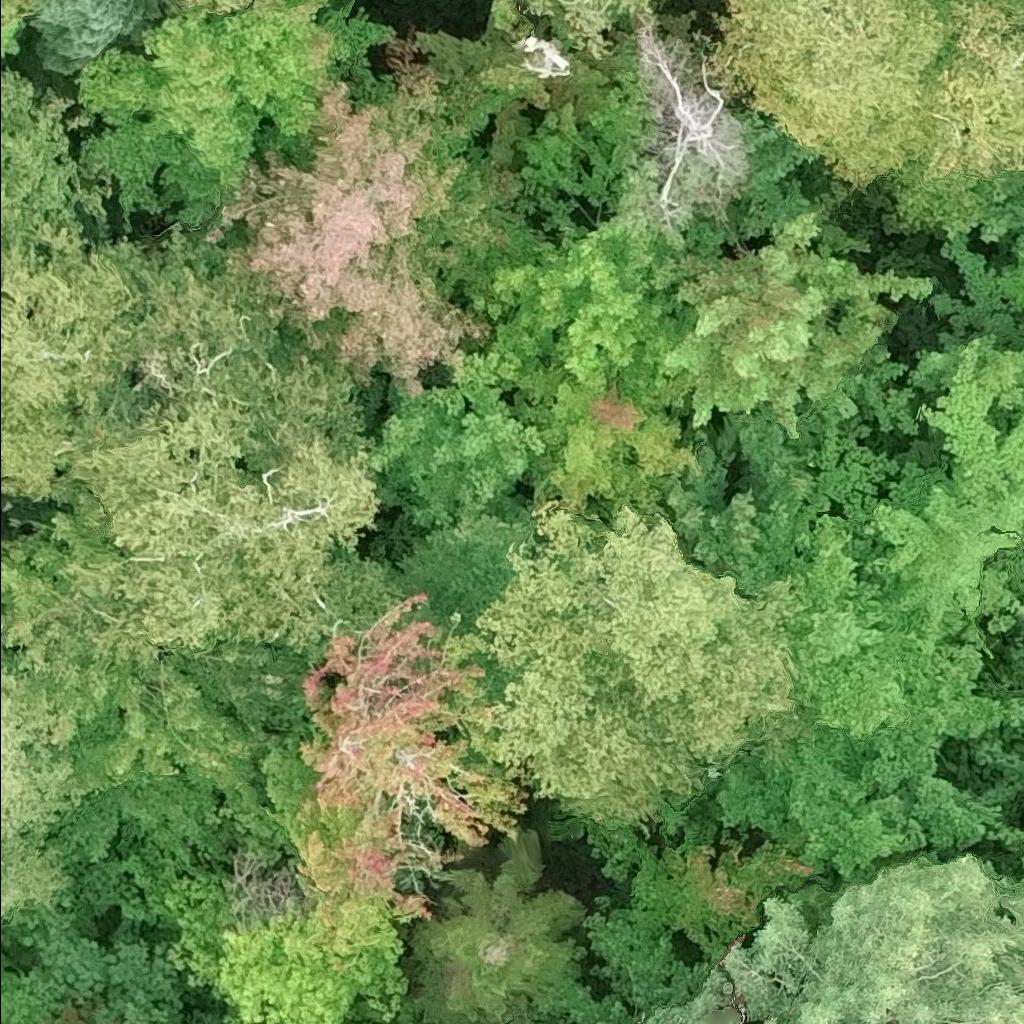crown: (164, 596, 526, 1023), (177, 38, 539, 405), (454, 163, 743, 527), (776, 335, 1023, 738), (51, 398, 403, 665), (480, 500, 712, 821), (94, 222, 379, 477), (71, 0, 396, 222), (712, 644, 1023, 874), (0, 514, 242, 798), (665, 335, 922, 602), (656, 207, 935, 438), (639, 858, 1023, 1023), (709, 0, 1023, 188), (600, 501, 802, 763), (0, 223, 168, 499), (589, 826, 816, 1020), (414, 829, 588, 1023), (638, 10, 757, 224), (0, 65, 113, 266), (0, 661, 87, 846), (28, 0, 165, 75), (503, 0, 656, 60), (0, 839, 63, 924), (535, 978, 642, 1023), (513, 41, 571, 80), (179, 0, 280, 16), (0, 0, 37, 28), (1009, 835, 1023, 893), (398, 999, 430, 1023), (0, 22, 19, 57)
